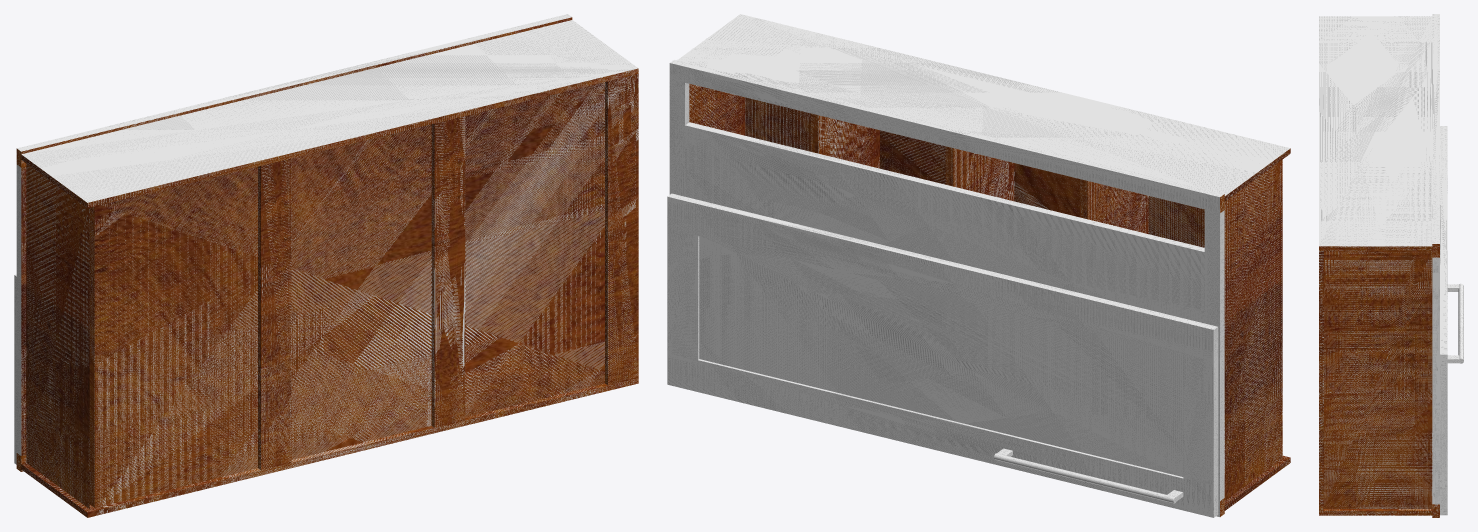
The picture shows the model from 3 angles, left to right: view 1: azimuth 30°, elevation 25°; view 2: azimuth 150°, elevation 25°; view 3: azimuth 270°, elevation 25°; orthographic projection. The views are drawn at different scales.
Parts seen in each view (by area): view 1: mesh6_mesh6-geometry, mesh8_mesh8-geometry, mesh3_mesh3-geometry, mesh1_mesh1-geometry, mesh7_mesh7-geometry, mesh9_mesh9-geometry, mesh4_mesh4-geometry, mesh2_mesh2-geometry; view 2: mesh17_mesh17-geometry, mesh11_mesh11-geometry, mesh8_mesh8-geometry, mesh14_mesh14-geometry, mesh1_mesh1-geometry, mesh13_mesh13-geometry, mesh9_mesh9-geometry, mesh5_mesh5-geometry, mesh12_mesh12-geometry, mesh4_mesh4-geometry, mesh16_mesh16-geometry, mesh15_mesh15-geometry (+2 smaller); view 3: mesh2_mesh2-geometry, mesh8_mesh8-geometry, mesh14_mesh14-geometry, mesh4_mesh4-geometry, mesh9_mesh9-geometry, mesh3_mesh3-geometry, mesh15_mesh15-geometry, mesh7_mesh7-geometry, mesh19_mesh19-geometry, mesh13_mesh13-geometry.
Boxes of the visible parts, x1,y1,x2,y2 form: mesh6_mesh6-geometry: [94, 82, 604, 507]; mesh8_mesh8-geometry: [21, 20, 638, 208]; mesh3_mesh3-geometry: [258, 74, 638, 470]; mesh1_mesh1-geometry: [26, 163, 89, 508]; mesh7_mesh7-geometry: [21, 378, 638, 517]; mesh9_mesh9-geometry: [16, 14, 572, 167]; mesh4_mesh4-geometry: [16, 165, 26, 455]; mesh2_mesh2-geometry: [89, 206, 94, 507]; mesh17_mesh17-geometry: [699, 236, 1183, 476]; mesh11_mesh11-geometry: [685, 122, 1204, 323]; mesh8_mesh8-geometry: [677, 14, 1290, 201]; mesh14_mesh14-geometry: [667, 193, 1218, 361]; mesh1_mesh1-geometry: [689, 84, 1282, 500]; mesh13_mesh13-geometry: [667, 352, 1218, 517]; mesh9_mesh9-geometry: [669, 60, 1224, 212]; mesh5_mesh5-geometry: [745, 97, 1204, 247]; mesh12_mesh12-geometry: [811, 113, 1148, 233]; mesh4_mesh4-geometry: [669, 79, 1224, 500]; mesh16_mesh16-geometry: [1183, 354, 1218, 485]; mesh15_mesh15-geometry: [667, 228, 699, 359]; mesh2_mesh2-geometry: [1324, 251, 1432, 508]; mesh8_mesh8-geometry: [1319, 16, 1432, 250]; mesh14_mesh14-geometry: [1440, 126, 1447, 381]; mesh4_mesh4-geometry: [1432, 257, 1439, 504]; mesh9_mesh9-geometry: [1432, 14, 1439, 257]; mesh3_mesh3-geometry: [1319, 251, 1323, 510]; mesh15_mesh15-geometry: [1440, 382, 1447, 487]; mesh7_mesh7-geometry: [1319, 509, 1432, 515]; mesh19_mesh19-geometry: [1458, 283, 1463, 363]; mesh13_mesh13-geometry: [1440, 488, 1447, 515].
Size of the model in its own units: 0.8514 by 0.473 by 0.2266.
